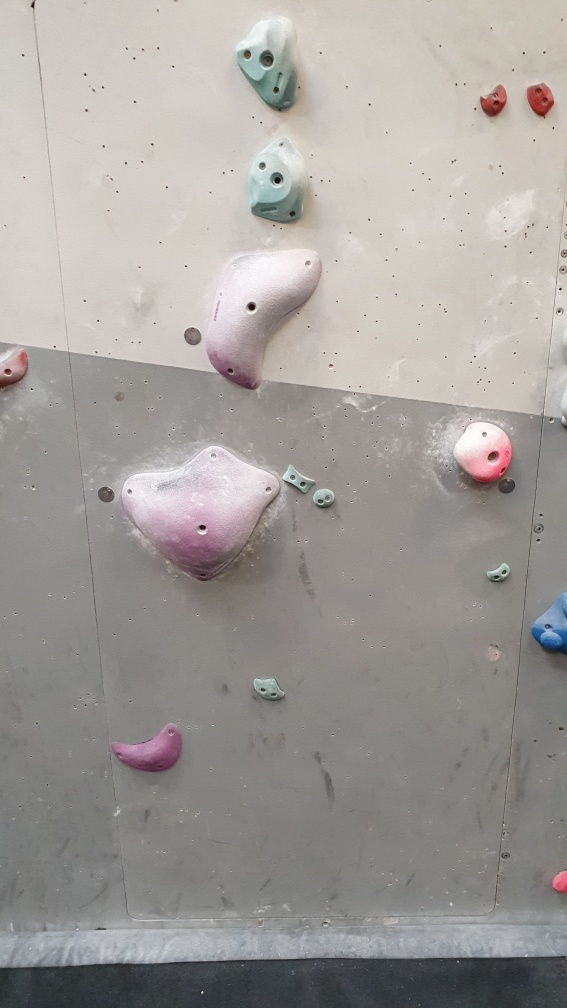Crimp: (523, 75, 554, 118), (480, 83, 508, 118)
Hand Start: (182, 324, 204, 351), (497, 478, 519, 496), (97, 485, 114, 504)
Jug: (235, 16, 302, 115), (245, 132, 312, 225), (450, 412, 516, 485)
Pinch: (282, 464, 316, 498)
Sloper: (528, 589, 567, 658)
